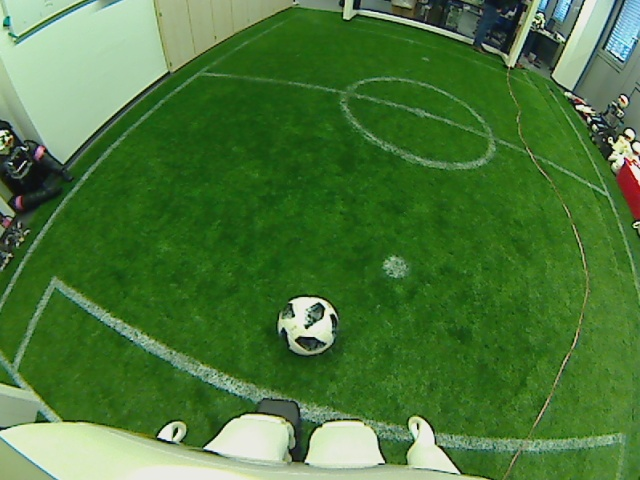ball: (275, 293, 340, 356)
